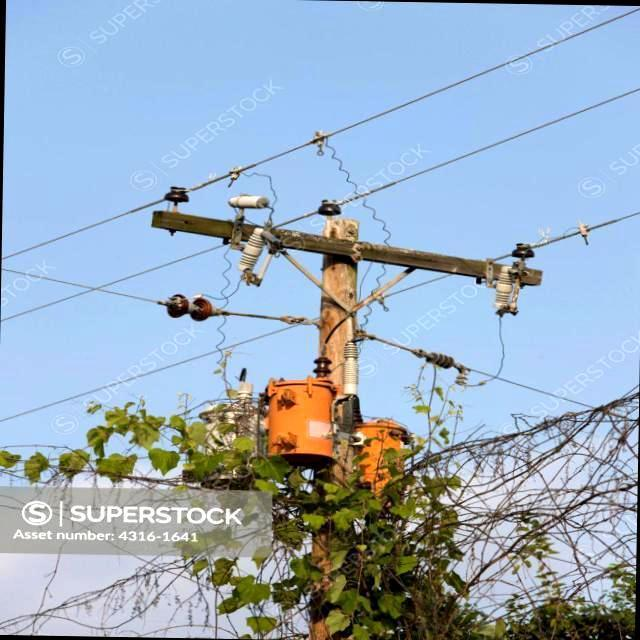critical vegetation: (281, 202, 556, 634), (146, 198, 542, 486)
